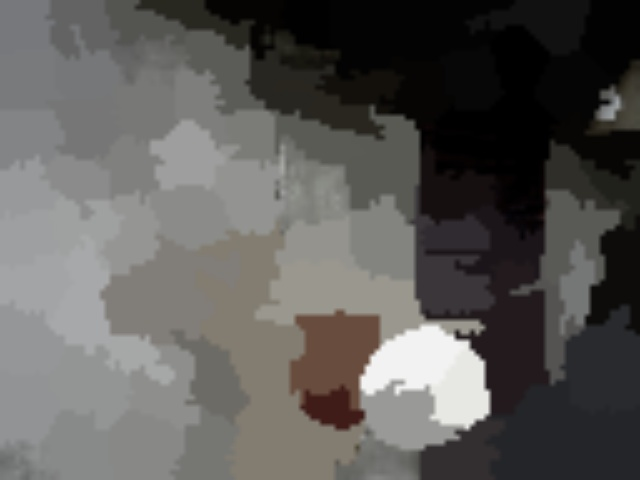three: (390, 379, 432, 422)
